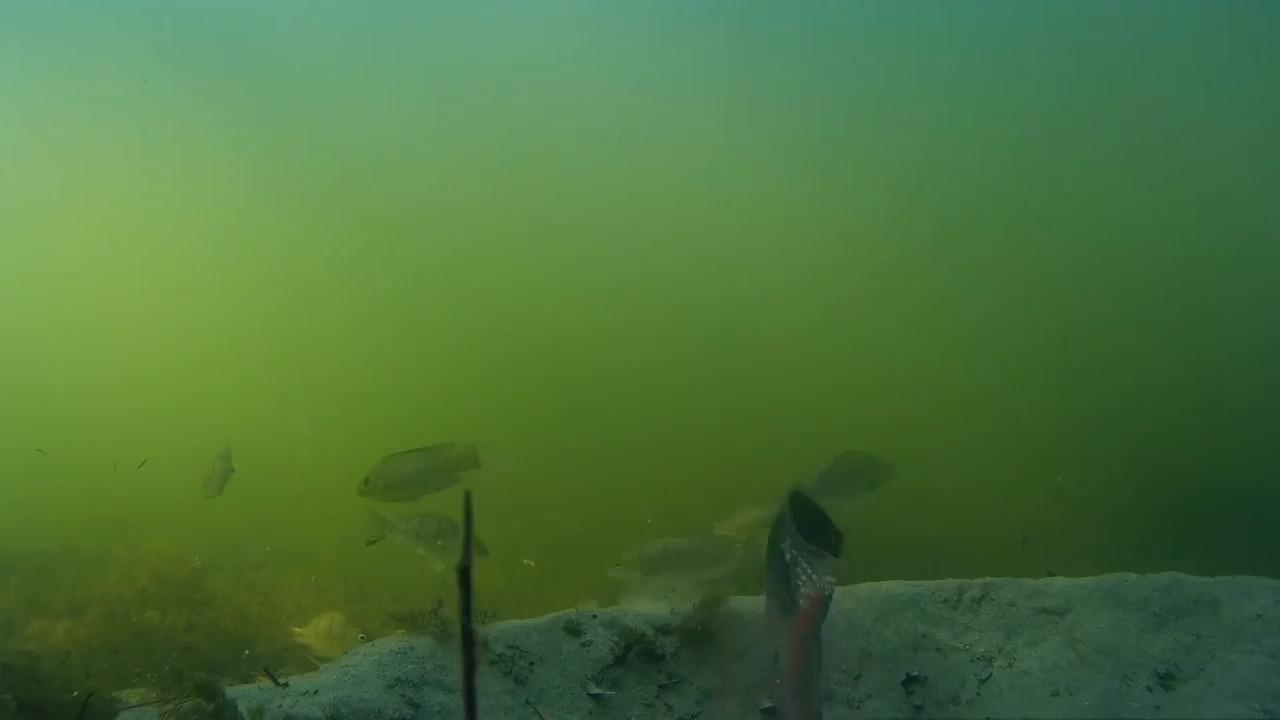Tilapia: (364, 498, 501, 606), (610, 520, 745, 606), (366, 434, 495, 514), (814, 452, 917, 516), (194, 446, 253, 504), (362, 670, 385, 674)
